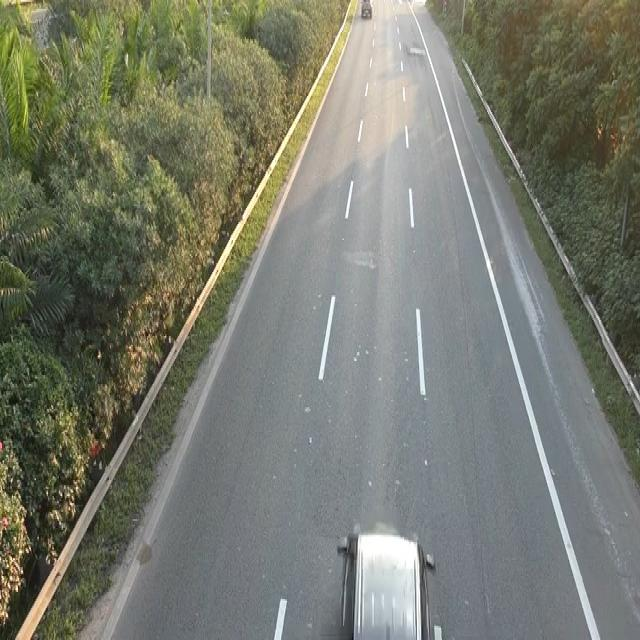bus: (334, 521, 442, 636)
car: (359, 0, 372, 20)
